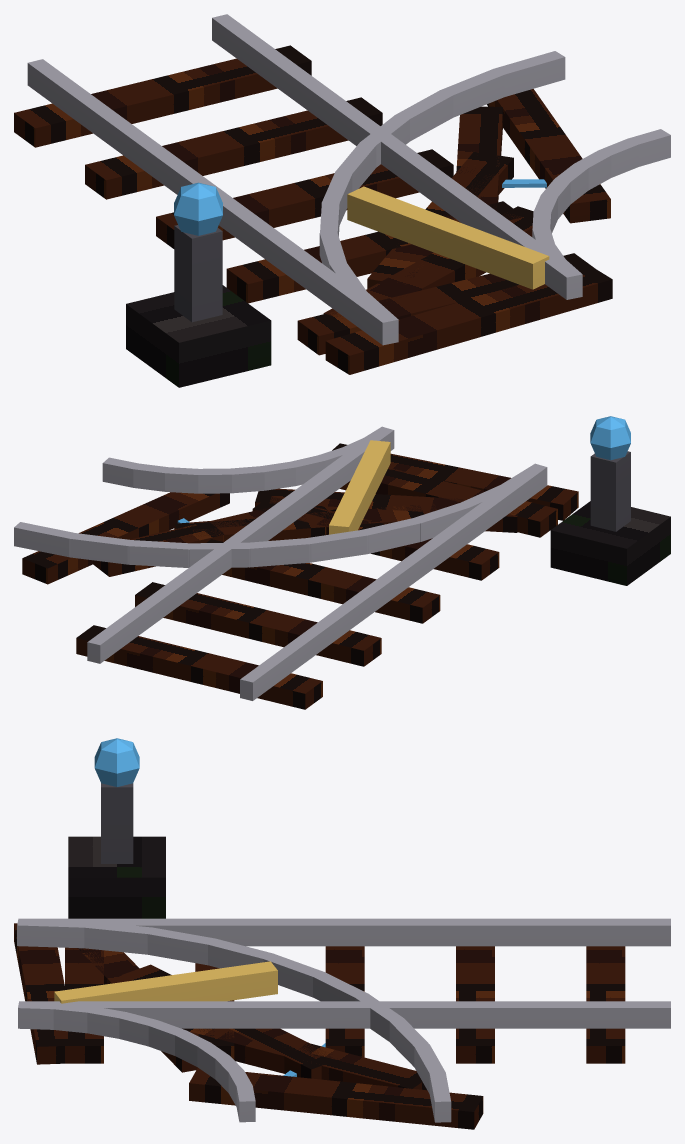
The model's file is rail_switch_right.glb.
The picture shows the model from 3 angles, top to bottom: view 1: azimuth 30°, elevation 25°; view 2: azimuth 150°, elevation 25°; view 3: azimuth 270°, elevation 25°; orthographic projection. The views are drawn at different scales.
Visible parts, largest first — view 1: rail_switch_right; view 2: rail_switch_right; view 3: rail_switch_right.
Part boxes in pixels (x1,y1,x2,y2): rail_switch_right: [14, 14, 670, 387]; rail_switch_right: [14, 416, 670, 709]; rail_switch_right: [14, 738, 670, 1129].
Size of the model in its own units: 1.91 by 0.54 by 2.02.
Materials: 4 (2 with a texture image).
